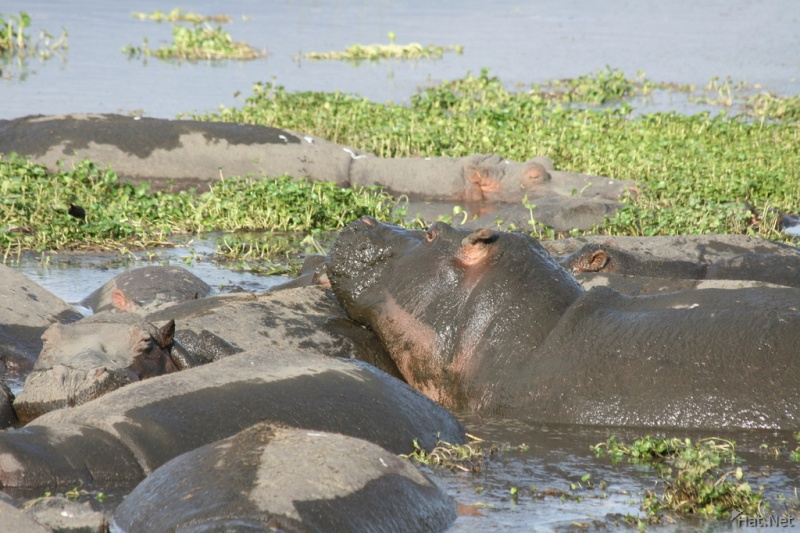hipopotamo: (334, 210, 800, 453), (0, 85, 641, 208)
